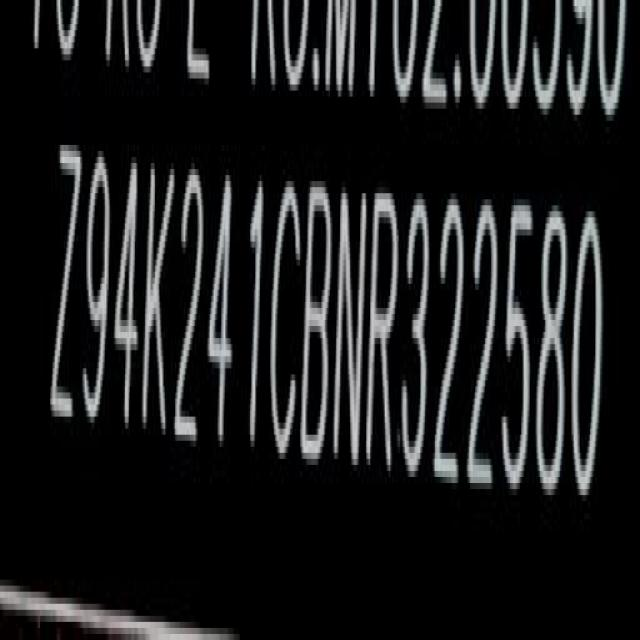0: (573, 218, 604, 504)
1: (244, 175, 262, 462)
2: (468, 201, 497, 496), (436, 198, 464, 490), (178, 171, 206, 453)
3: (403, 200, 433, 484)
4: (114, 154, 142, 436), (209, 168, 236, 458)
5: (505, 200, 534, 496)
8: (538, 210, 569, 500)
9: (84, 150, 112, 429)
B: (303, 180, 333, 466)
C: (270, 181, 300, 462)
K: (140, 159, 173, 448)
N: (336, 182, 365, 468)
R: (368, 187, 400, 471)
Z: (50, 137, 79, 430)
